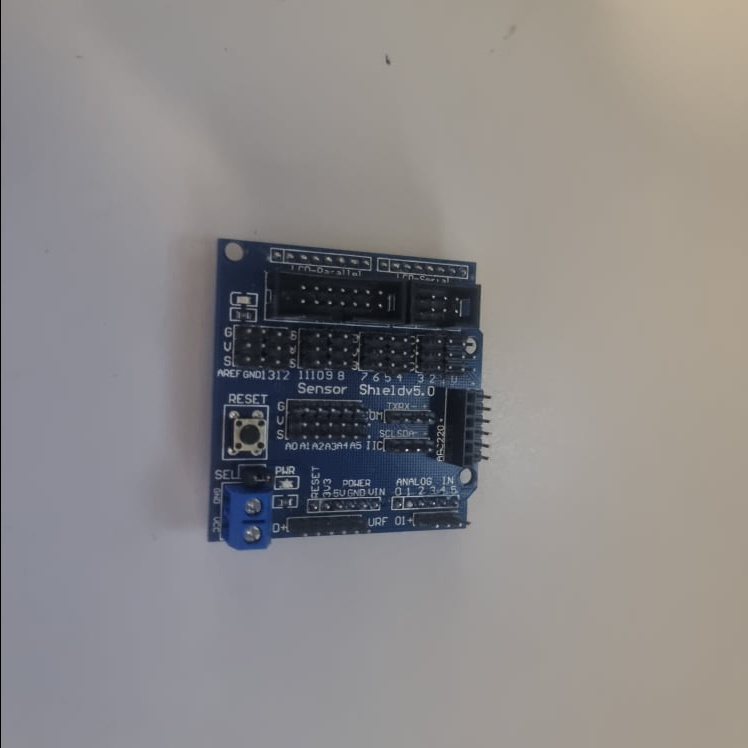5V EXPANSION: (203, 239, 488, 552)
